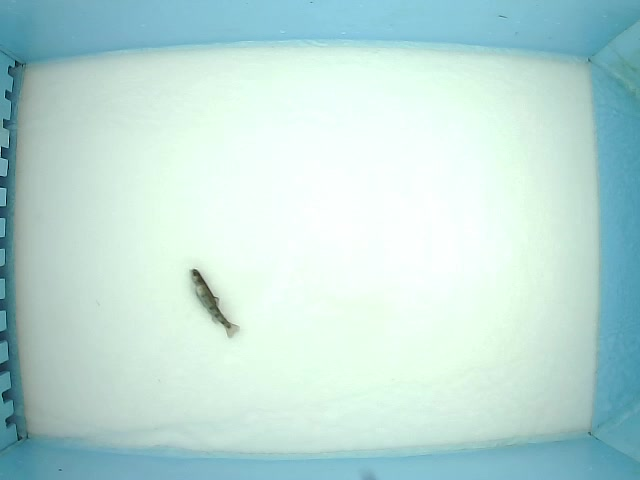fish: (188, 267, 241, 341)
